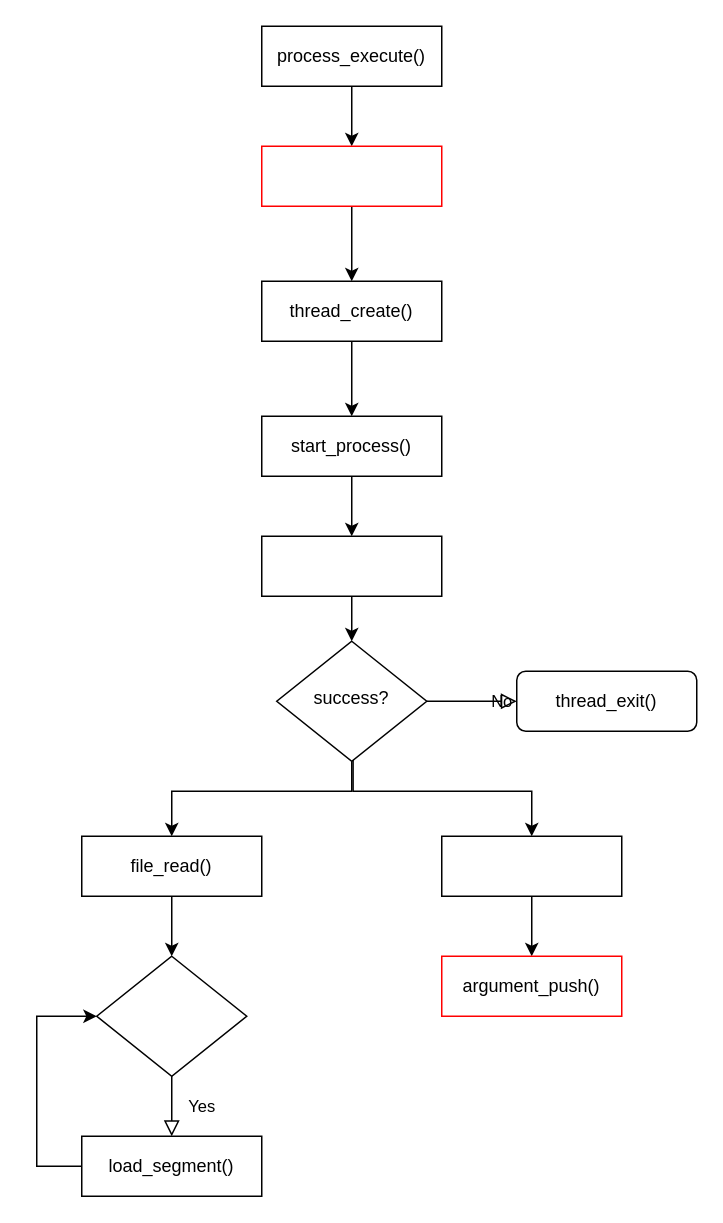
This 723x1223 diagram has some shape labels left out. Each missing label, with the centre of its shape:
"load()" goes at point (351, 565).
"parse file_name" goes at point (351, 175).
"setup_stack()" goes at point (531, 865).
"validate_segment()" goes at point (171, 1015).
